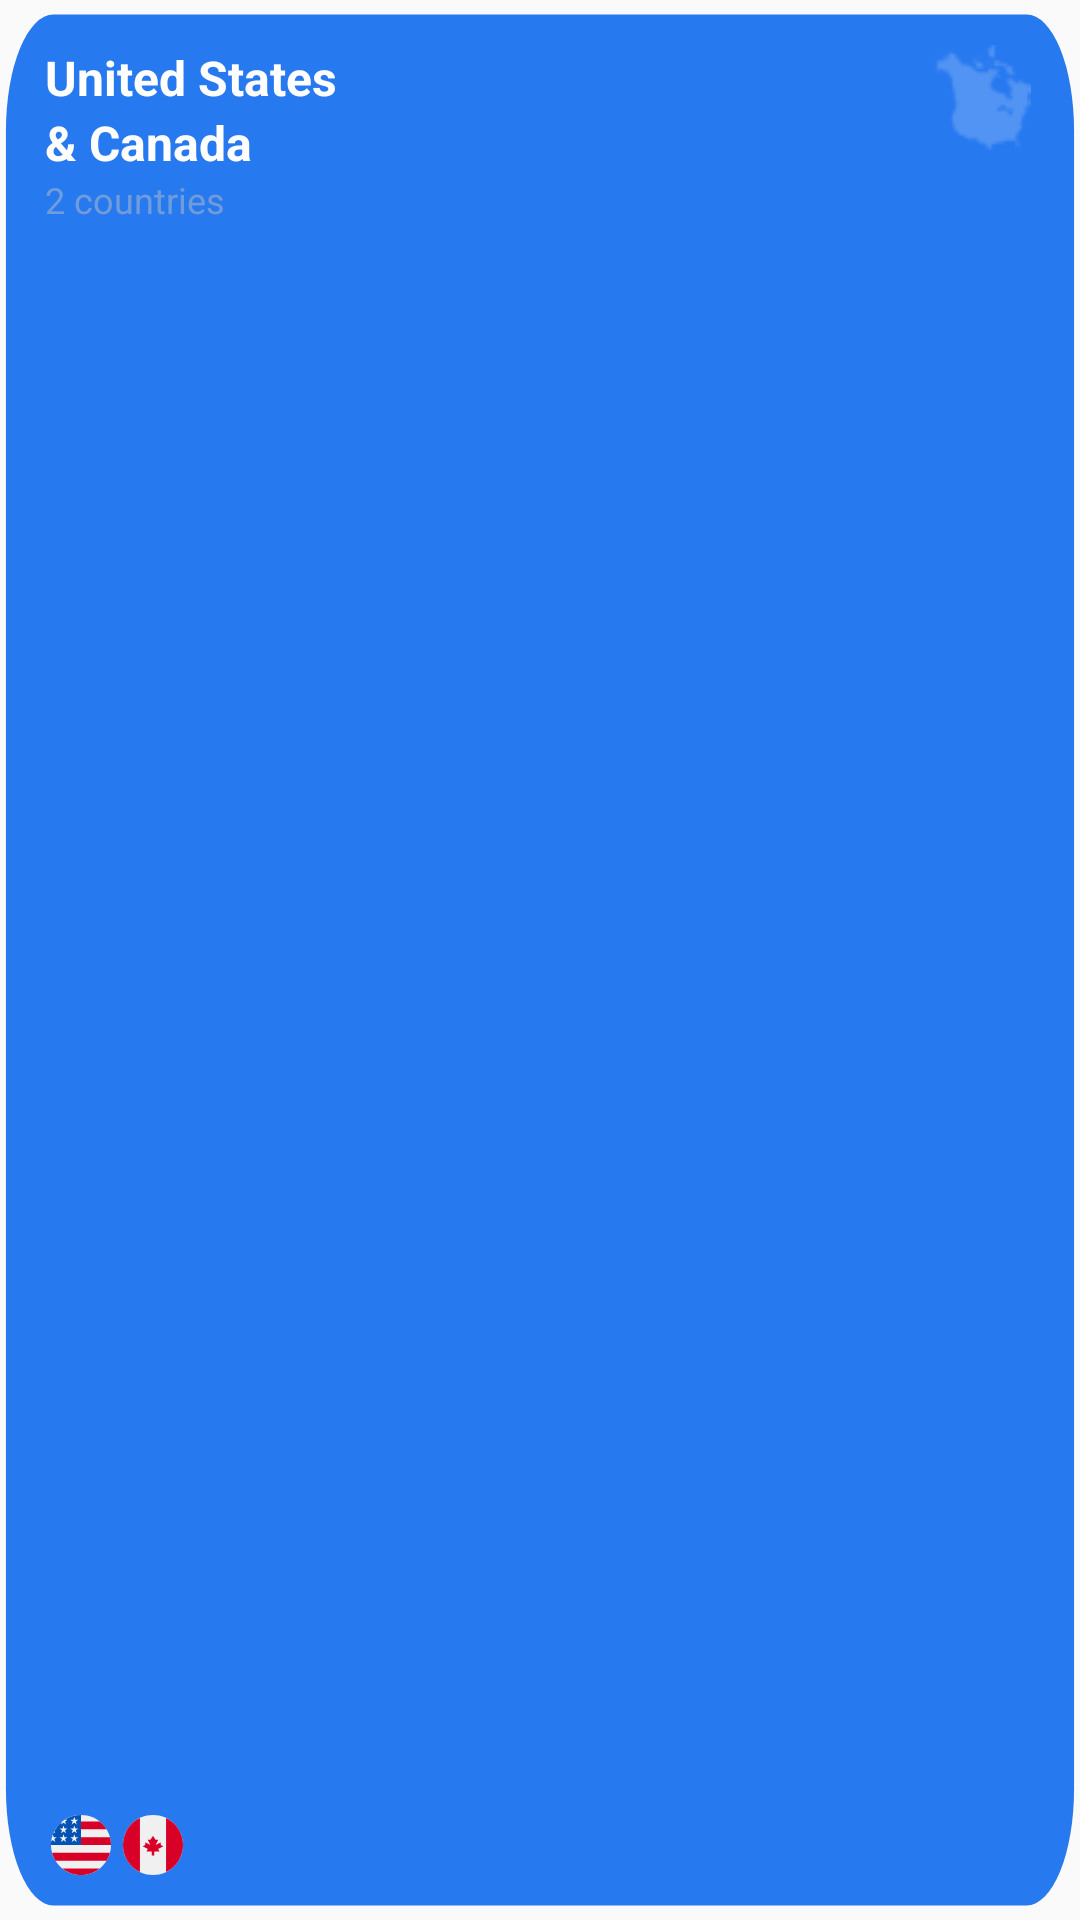

Screen size 1080 x 1920. Icon name, then its center in pixels as [x,y]:
flag canada: [153,1845]
flag usa: [81,1845]
